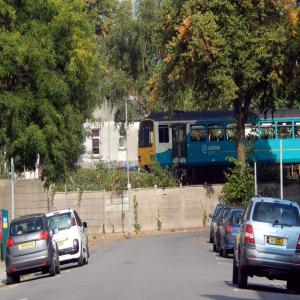Vehicle-registration-plate: (268, 238, 287, 246), (20, 242, 36, 250), (58, 243, 65, 248)
